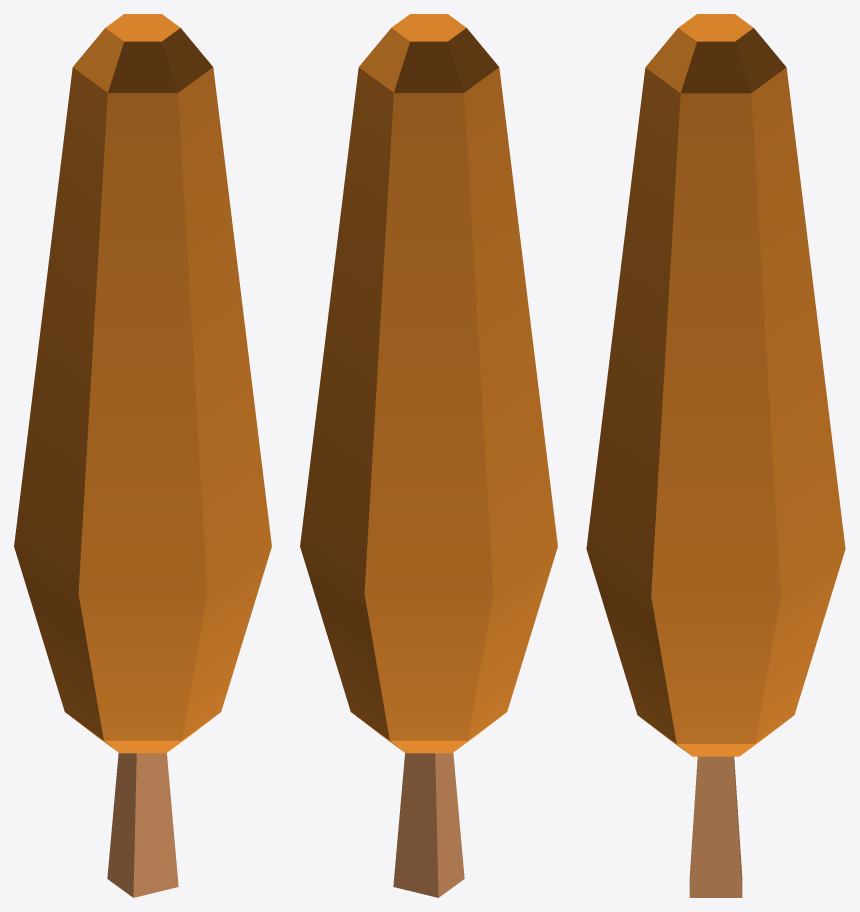
The model's file is tree_tall_fall.obj.
3 views of the same model, side by side, from view 1: azimuth 30°, elevation 25°; view 2: azimuth 150°, elevation 25°; view 3: azimuth 270°, elevation 25° (orthographic).
Parts seen in each view (by area): view 1: tree_tall_fall; view 2: tree_tall_fall; view 3: tree_tall_fall.
Boxes of the visible parts, x1,y1,x2,y2 form: tree_tall_fall: (14, 14, 271, 897); tree_tall_fall: (300, 14, 557, 897); tree_tall_fall: (586, 14, 845, 897).
Bounding box in the file's own units: 4 × 16.88 × 4.61.
